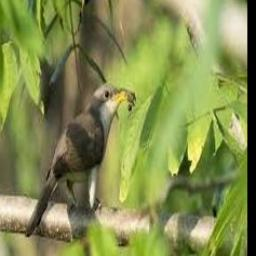Cuckoo: (25, 84, 134, 237)
